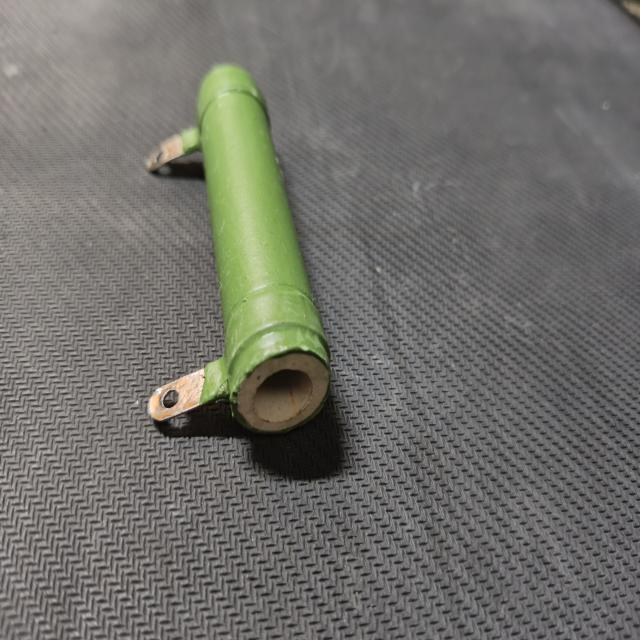resistor: (129, 54, 339, 446)
